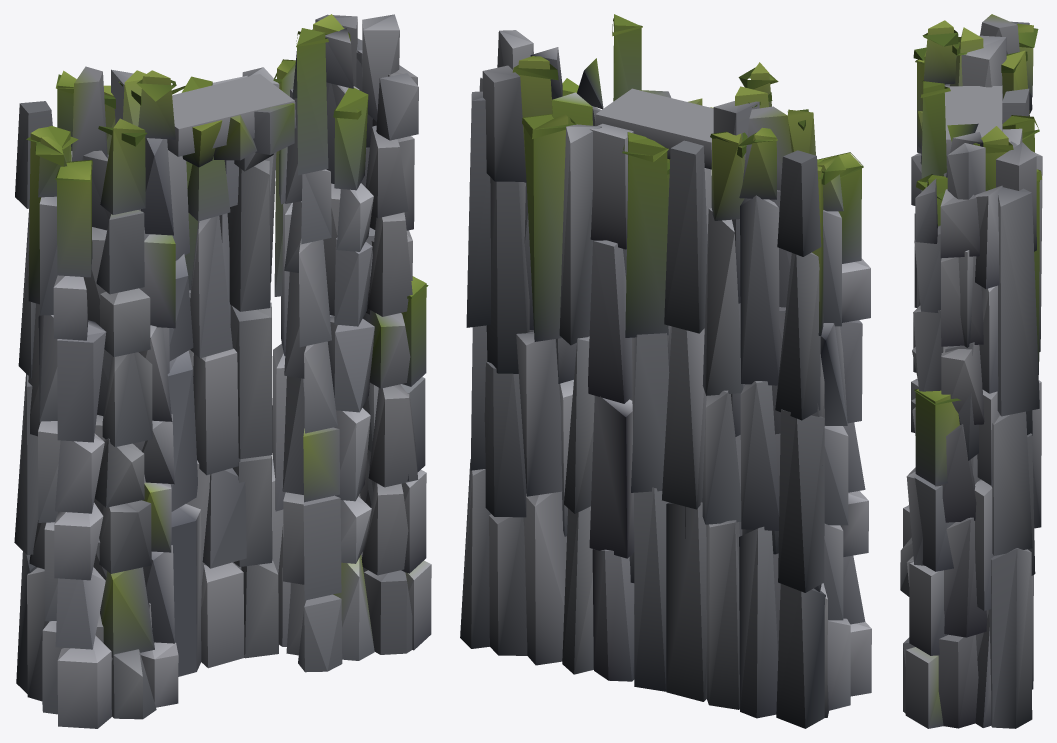
Rendered from wf_basalt_cliff-lod1.glb.
3 views of the same model, side by side, from view 1: azimuth 30°, elevation 25°; view 2: azimuth 150°, elevation 25°; view 3: azimuth 270°, elevation 25° (orthographic). The views are drawn at different scales.
Parts seen in each view (by area): view 1: wf_basalt_cliff; view 2: wf_basalt_cliff; view 3: wf_basalt_cliff.
Boxes of the visible parts, x1,y1,x2,y2 form: wf_basalt_cliff: (14, 14, 431, 728); wf_basalt_cliff: (460, 14, 871, 728); wf_basalt_cliff: (900, 14, 1042, 728).
Bounding box in the file's own units: 30.03 × 47.92 × 10.47.
